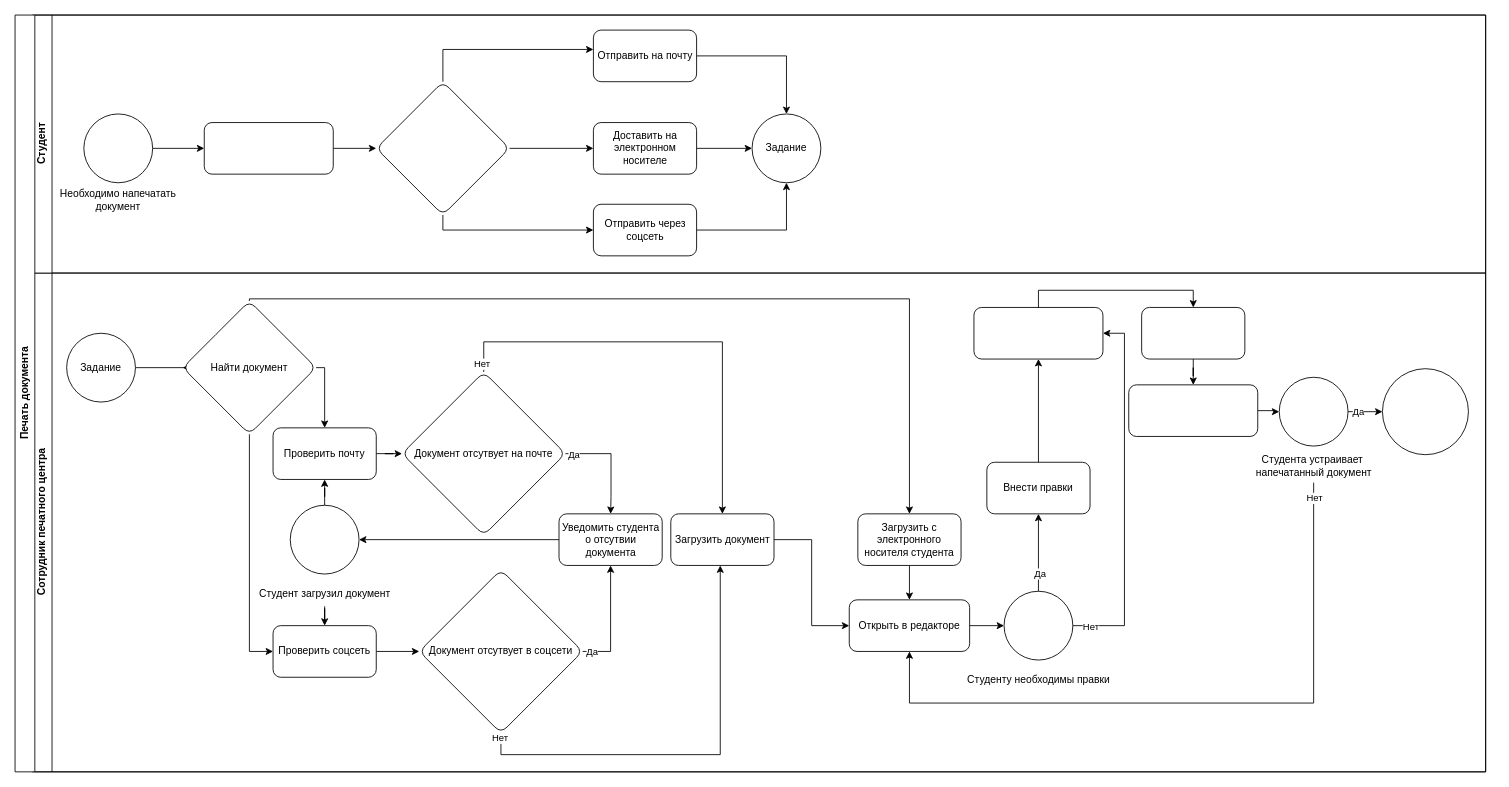
Some shapes in this 1509 by 787 pixel diagram are drawn without their labels. Each missing label, with the centre of its shape:
"Вручить напечатанные документы студенту" goes at (1193,410).
"Выбрать необходимый принтер для печати" goes at (1038,333).
"Выполненное задание" goes at (1425,411).
"Каким способом доставить документ" goes at (442,148).
"Печатать документ" goes at (1193,333).
"Подготовить документ для печати" goes at (268,148).
